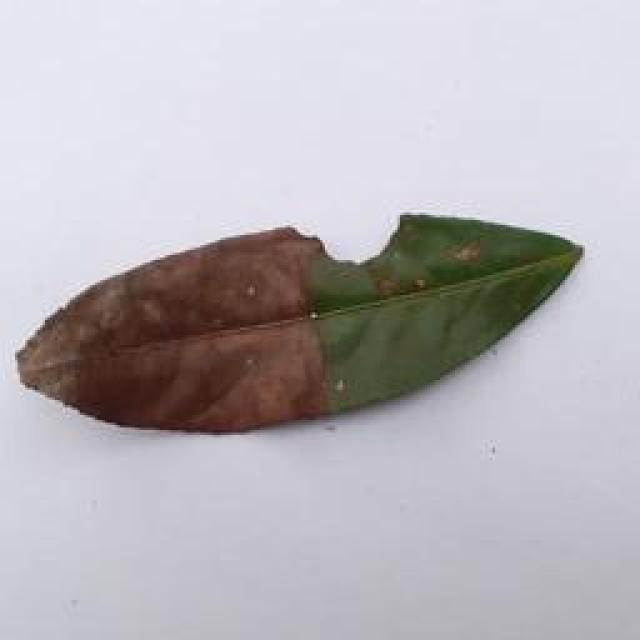Brown Blight: (10, 208, 592, 430)
